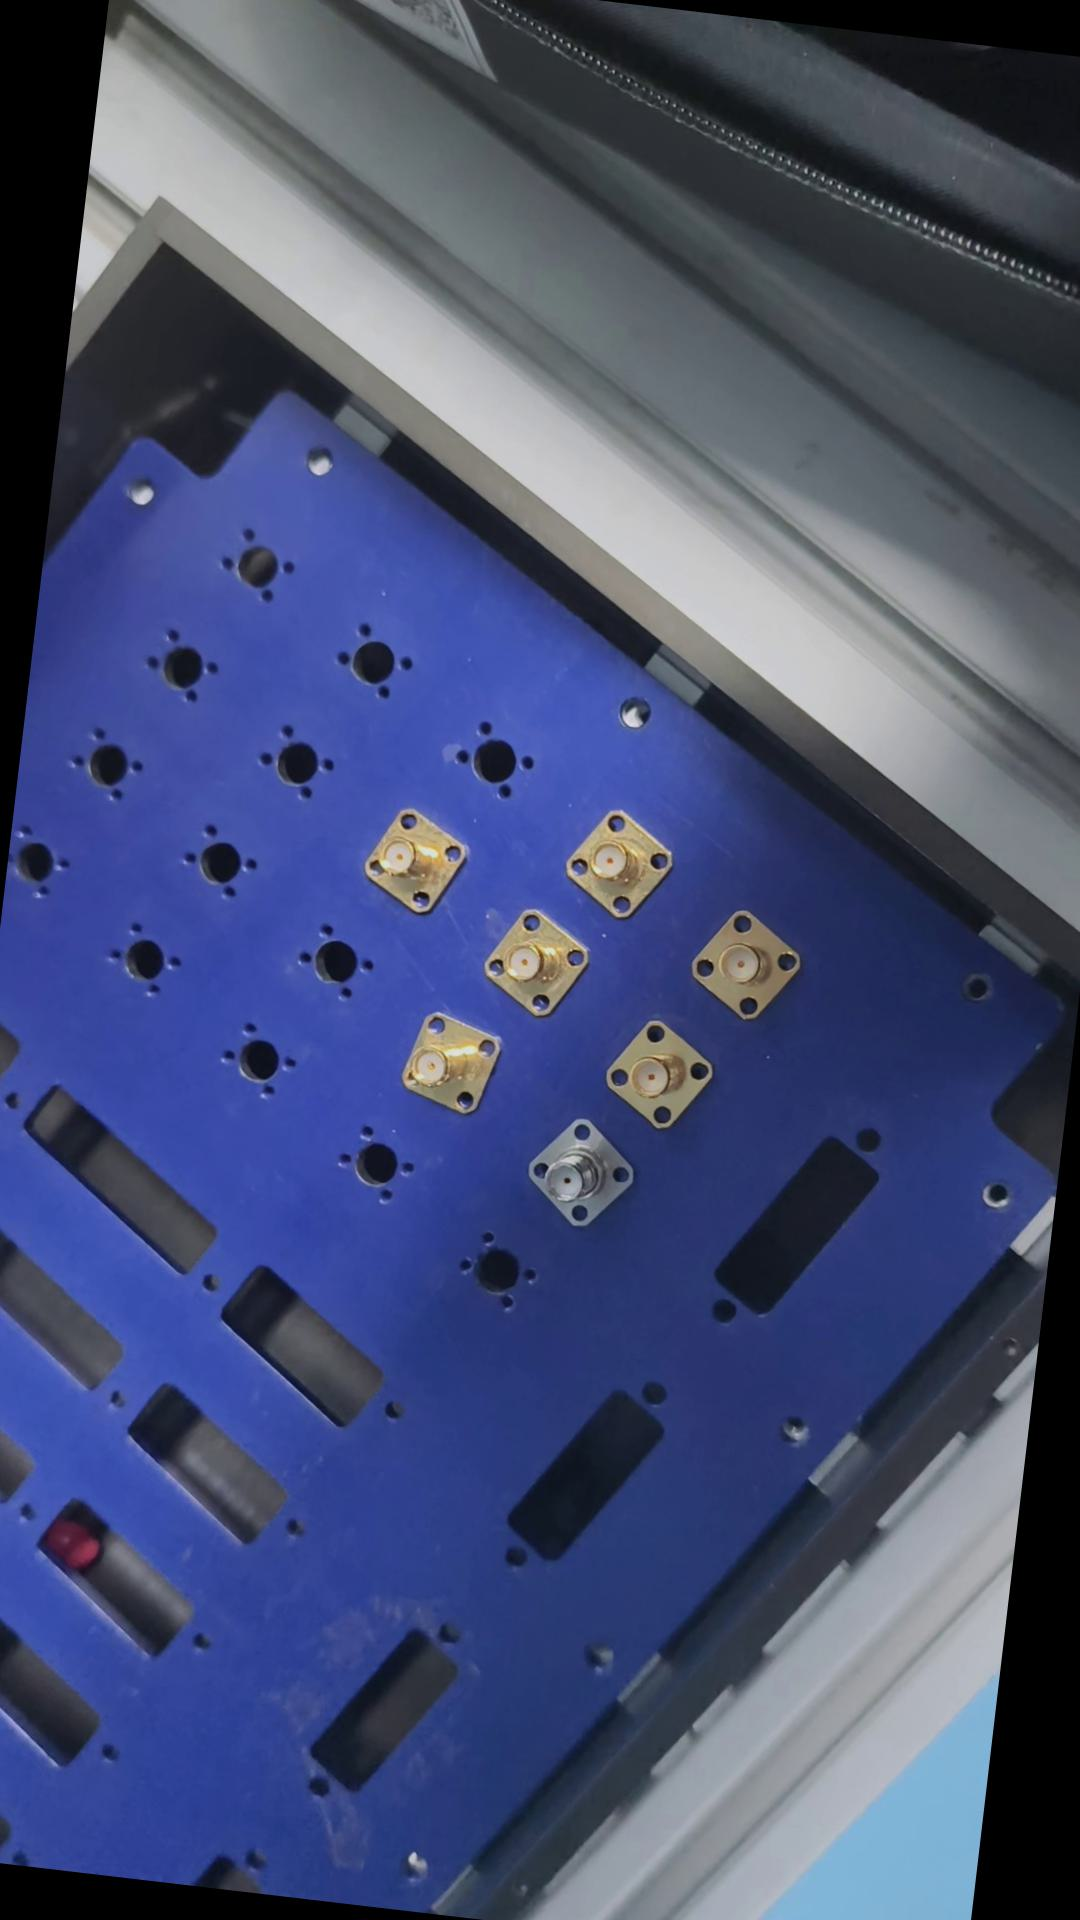SMA: (516, 1102, 641, 1238), (592, 1007, 721, 1131), (556, 794, 675, 920), (378, 1010, 505, 1120), (686, 905, 804, 1021), (476, 903, 592, 1021), (357, 796, 468, 911)
